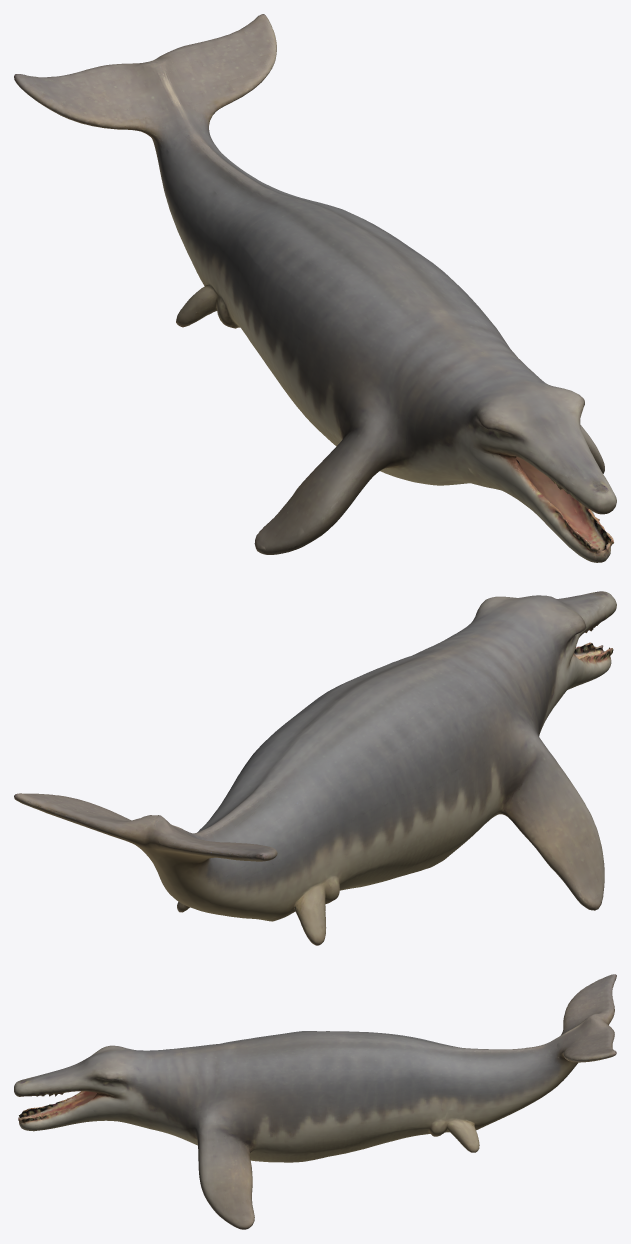
3 renders of one model, top to bottom at view 1: azimuth 30°, elevation 25°; view 2: azimuth 150°, elevation 25°; view 3: azimuth 270°, elevation 25°, orthographic. The views are drawn at different scales.
Visible parts, largest first — view 1: world; view 2: world; view 3: world.
Boxes of the visible parts, bbox=[...] form: world: bbox=[14, 14, 616, 562]; world: bbox=[14, 591, 616, 945]; world: bbox=[14, 974, 616, 1229].
Size of the model in its own units: 2.11 by 1.51 by 5.
Materials: 1 (1 with a texture image).
